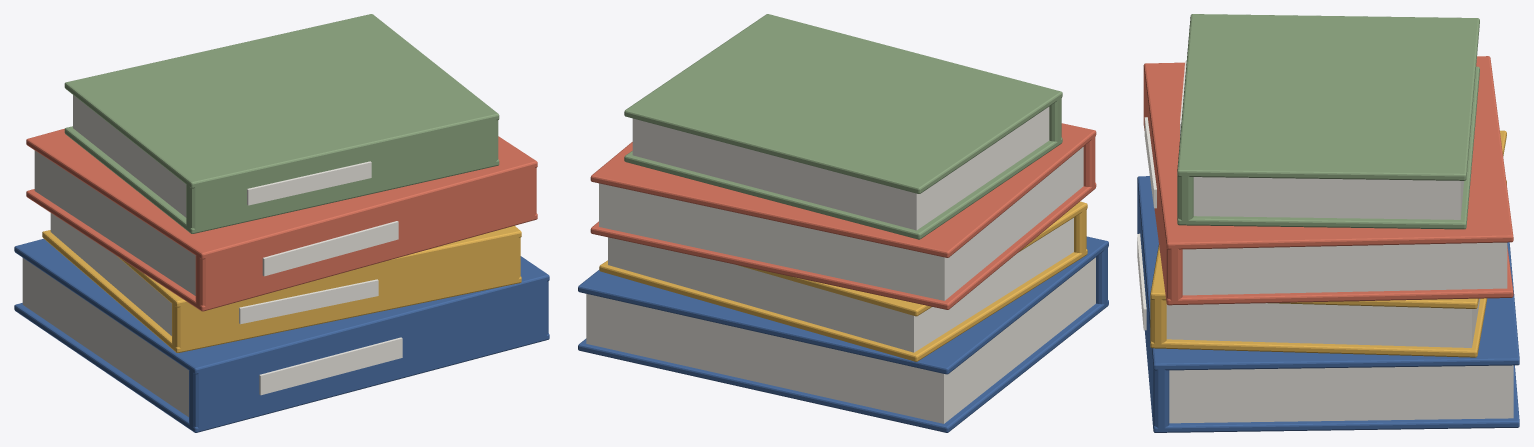
File: hh_cat_cookbooks.glb
3 renders of one model, left to right at view 1: azimuth 30°, elevation 25°; view 2: azimuth 150°, elevation 25°; view 3: azimuth 270°, elevation 25°, orthographic. The views are drawn at different scales.
Visible parts, largest first — view 1: cover.007, spine, spine.002, spine.001, spine.003, cover.005, cover.001, pages, pages.002, pages.003, pages.001, cover (+8 smaller); view 2: cover.007, pages, pages.002, pages.001, pages.003, cover.005, cover.001, cover, cover.004, cover.002, cover.006, cover.003 (+4 smaller); view 3: cover.007, pages, pages.002, cover.005, pages.001, pages.003, cover.001, cover, cover.006, cover.004, cover.002, spine.002 (+6 smaller).
Part boxes in pixels (box(x1,y1,x2,y2)): cover.007: box(64, 14, 499, 188); spine: box(189, 272, 548, 428); spine.002: box(195, 159, 536, 307); spine.001: box(172, 228, 520, 349); spine.003: box(186, 111, 498, 229); cover.005: box(26, 128, 537, 259); cover.001: box(14, 238, 549, 374); pages: box(22, 258, 188, 416); pages.002: box(34, 150, 195, 295); pages.003: box(73, 95, 186, 217); pages.001: box(50, 213, 171, 335); cover: box(14, 303, 549, 432); cover.007: box(624, 14, 1062, 193); pages: box(586, 257, 1095, 423); pages.002: box(599, 147, 1083, 300); pages.001: box(608, 218, 1073, 352); pages.003: box(632, 107, 1049, 230); cover.005: box(590, 123, 1096, 257); cover.001: box(578, 236, 1108, 374); cover: box(578, 300, 1108, 432); cover.004: box(590, 182, 1096, 309); cover.002: box(599, 249, 1087, 361); cover.006: box(624, 137, 1062, 239); cover.003: box(737, 201, 1087, 316); cover.007: box(1177, 14, 1479, 180); pages: box(1169, 365, 1513, 423); pages.002: box(1182, 242, 1507, 295); cover.005: box(1143, 56, 1513, 249); pages.001: box(1166, 298, 1480, 347); pages.003: box(1193, 177, 1463, 219); cover.001: box(1137, 176, 1519, 370); cover: box(1144, 330, 1519, 432); cover.006: box(1177, 66, 1479, 229); cover.004: box(1143, 123, 1513, 305); cover.002: box(1150, 180, 1506, 357); spine.002: box(1143, 64, 1182, 300).
Bounding box in the file's own units: 0.24 × 0.14 × 0.2.
